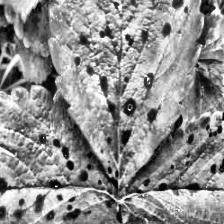Leaf Spot: (47, 0, 207, 202), (0, 84, 130, 223), (119, 111, 224, 224), (173, 58, 224, 129), (1, 0, 57, 24), (193, 0, 224, 17)
